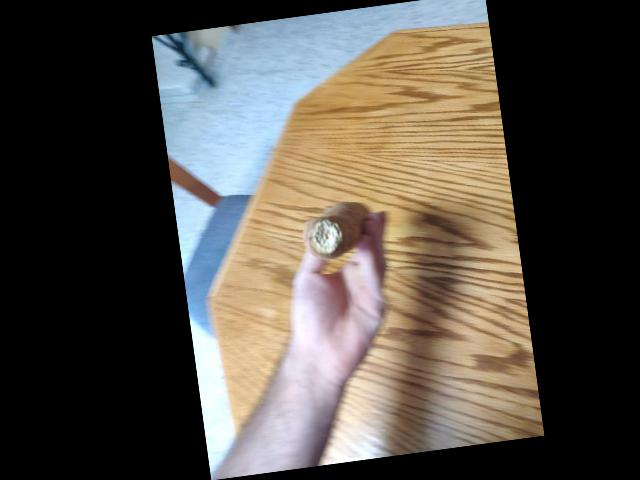sweet_potato: (290, 189, 380, 279)
